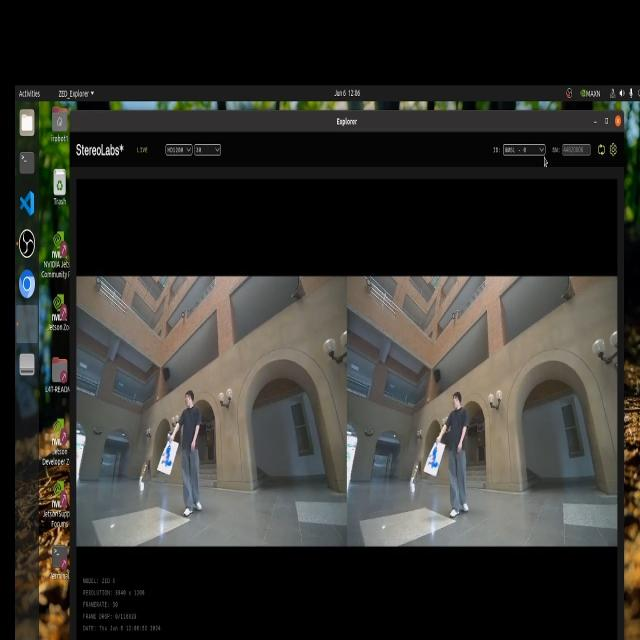blue: (157, 437, 177, 480), (428, 441, 443, 476)
